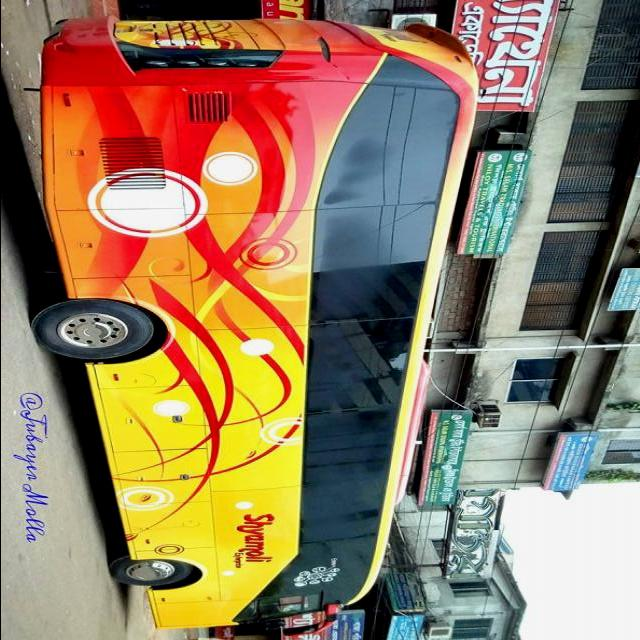bus: (26, 14, 484, 639)
